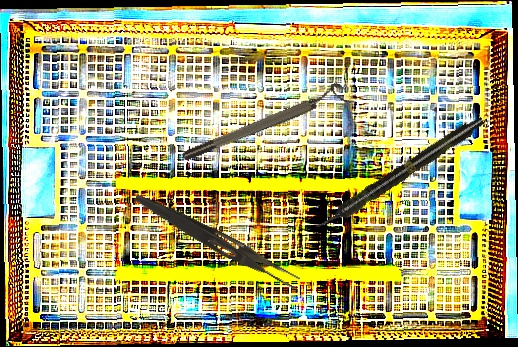Dressing Forceps: (129, 190, 304, 291)
Fixation Ring: (177, 80, 351, 164)
Handpiece: (311, 112, 488, 236)
